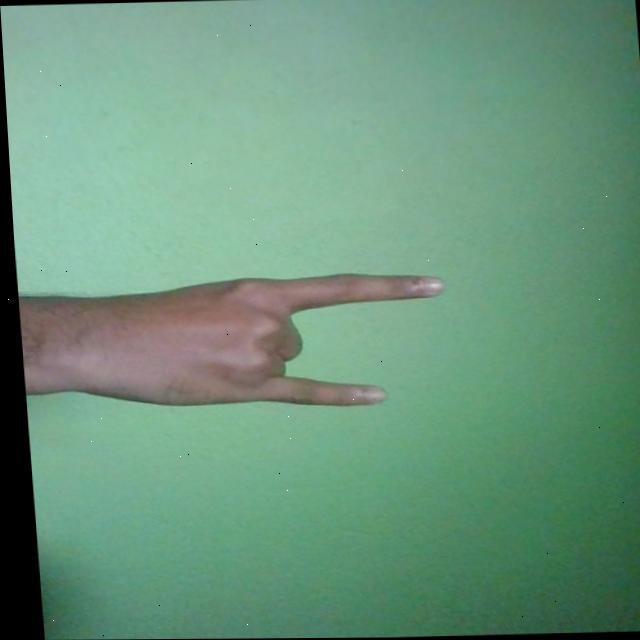Rock On: (20, 271, 448, 414)
